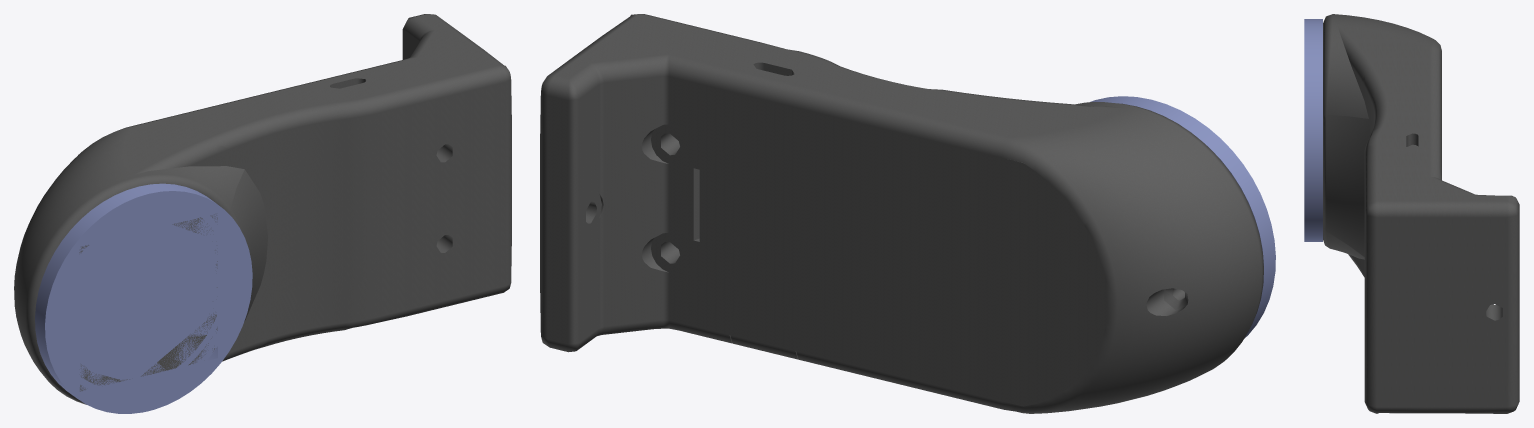
File: GelSlim.obj
The picture shows the model from 3 angles, left to right: view 1: azimuth 30°, elevation 25°; view 2: azimuth 150°, elevation 25°; view 3: azimuth 270°, elevation 25°; orthographic projection. The views are drawn at different scales.
Parts seen in each view (by area): view 1: mesh2, mesh1; view 2: mesh2, mesh1; view 3: mesh2, mesh1.
Boxes of the visible parts, x1,y1,x2,y2 form: mesh2: (14,14,511,404); mesh1: (35,183,252,413); mesh2: (540,14,1263,413); mesh1: (1090,96,1275,338); mesh2: (1323,14,1519,413); mesh1: (1304,19,1322,241).
Size of the model in its own units: 44.05 by 18.85 by 17.35.
2 materials, 1 textured.
